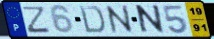5: (161, 4, 189, 35)
6: (49, 4, 77, 36)
D: (78, 5, 107, 35)
N: (103, 4, 136, 35), (136, 3, 166, 35)
Z: (22, 5, 51, 34)
